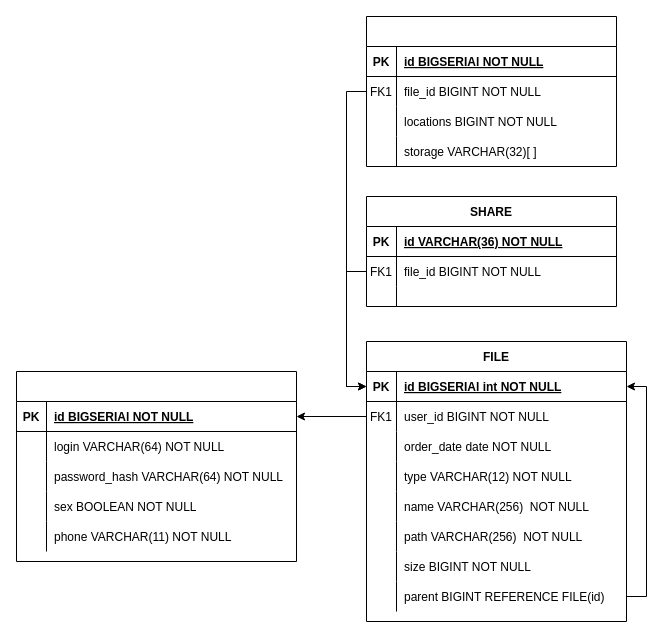
This 663x638 diagram has some shape labels left out. The shapes that lost their labels are listed below. From the top down, each one's box as (x1, y1, x2, y2) in pixels, then its label:
(366, 16, 616, 166): CHUNK
(16, 370, 296, 562): USER
